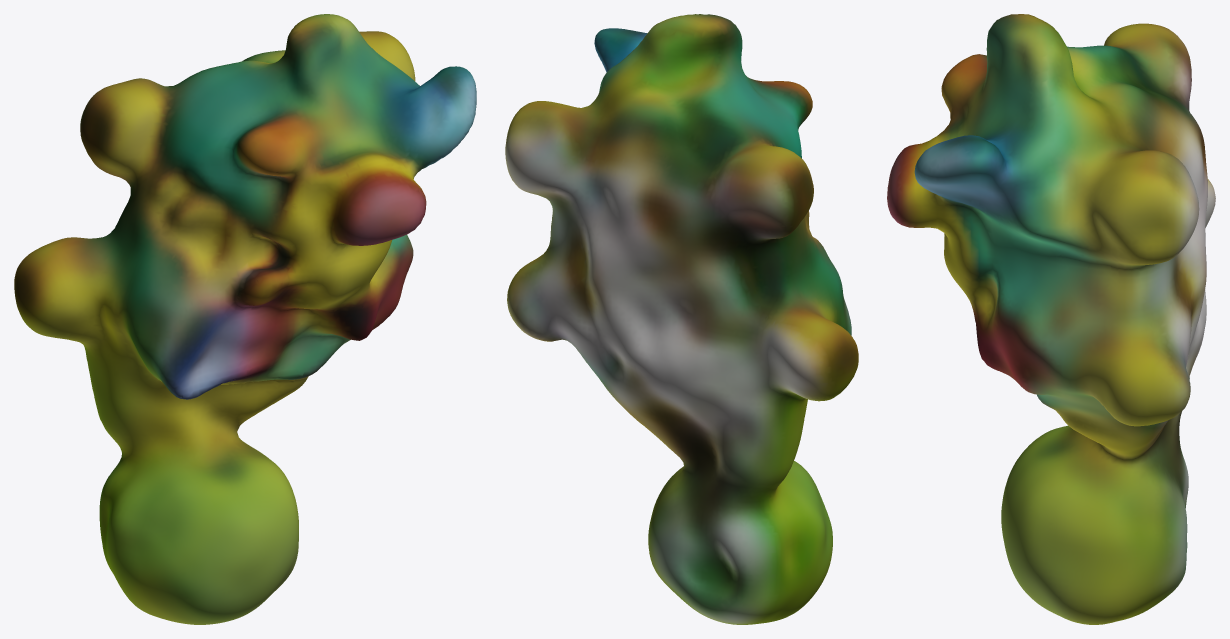
Rendered from turtle.glb.
The picture shows the model from 3 angles, left to right: view 1: azimuth 30°, elevation 25°; view 2: azimuth 150°, elevation 25°; view 3: azimuth 270°, elevation 25°; orthographic projection. The views are drawn at different scales.
Bounding box in the file's own units: 0.6533 × 0.9998 × 0.4708.
